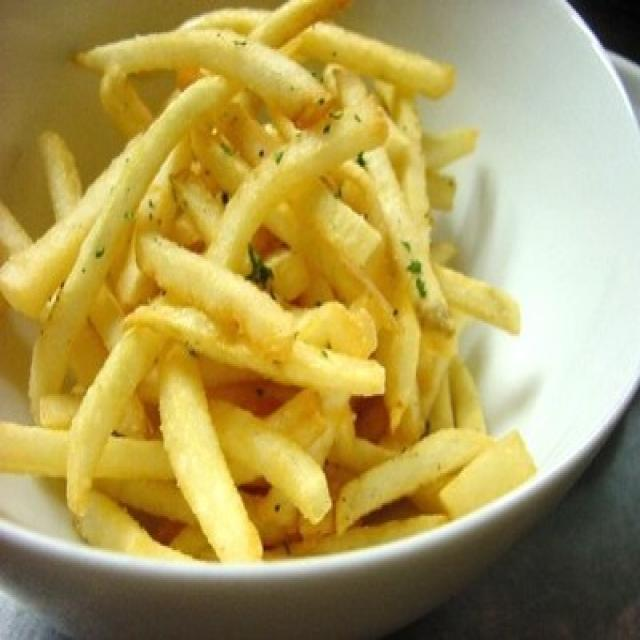French Fries: (8, 18, 506, 517)
